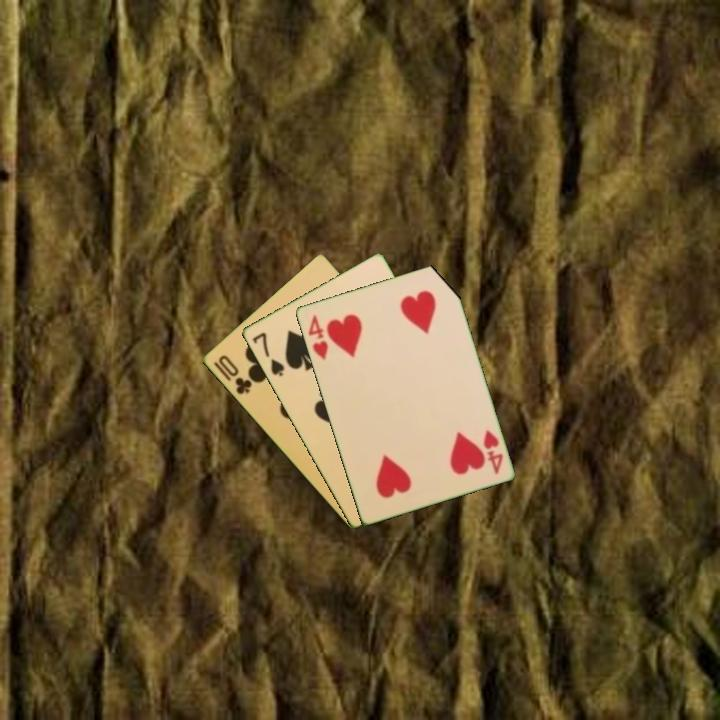10c: (214, 352, 254, 397)
4h: (304, 311, 331, 363), (479, 427, 505, 477)
7s: (248, 328, 287, 379)
